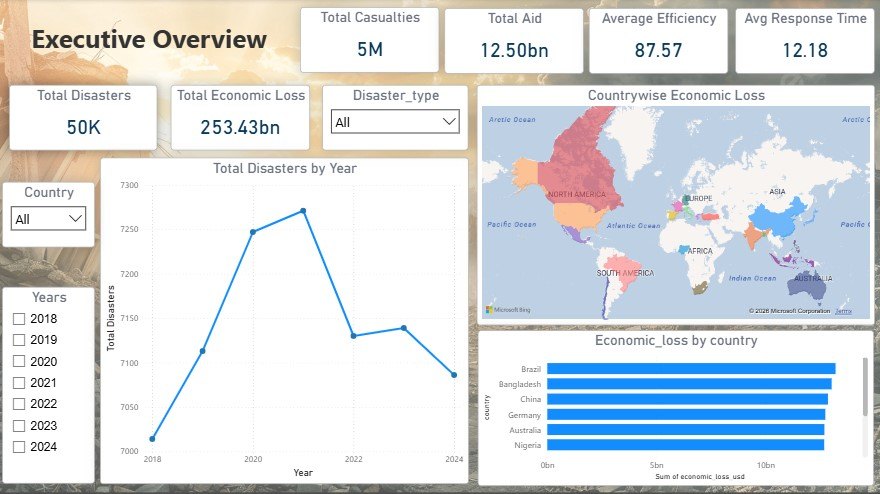

Layout of this report page (visuals, bound fields, positions):
{"tool":"powerbi","page":{"name":"Executive Overview","canvas":[1280,720],"ordinal":0},"visuals":[{"type":"card","title":"Total Disasters","fields":{"Values":["Disasters_Table.Total Disasters"]},"box":[16.1,124.4,215.2,95.2],"z":0},{"type":"card","title":"Total Economic Loss","fields":{"Values":["Disasters_Table.Total Economic Loss"]},"box":[250.3,124.4,202,95.1],"z":1000},{"type":"card","title":"Total Casualties","fields":{"Values":["Disasters_Table.Total Casualties"]},"box":[438.3,12.2,202.1,95],"z":2000},{"type":"card","title":"Total Aid","fields":{"Values":["Disasters_Table.Total Aid"]},"box":[647.3,12.6,202.3,95],"z":3000},{"type":"card","title":"Avg Response Time","fields":{"Values":["Disasters_Table.Avg Response Time"]},"box":[1068.6,12.6,202,95],"z":4000},{"type":"card","title":"Average Efficiency","fields":{"Values":["Disasters_Table.Avg Efficiency"]},"box":[856.6,12.6,202,95],"z":5000},{"type":"slicer","title":"Years","fields":{"Values":["Calender_Table.Year"]},"box":[5.9,417.2,134.7,285.5],"z":6000},{"type":"lineChart","fields":{"Category":["Calender_Table.Year"],"Y":["Disasters_Table.Total Disasters"]},"box":[147.9,229.8,534.3,472.8],"z":7000},{"type":"filledMap","title":"Countrywise Economic Loss","fields":{"Category":["Disasters_Table.country"],"Series":["Disasters_Table.economic_loss_usd"]},"box":[693.9,124.2,577,348.2],"z":8000},{"type":"barChart","title":"Economic_loss by country","fields":{"Category":["Disasters_Table.country"],"Y":["Sum(Disasters_Table.economic_loss_usd)"]},"box":[695.4,480.2,573.8,225.4],"z":9000},{"type":"slicer","title":"Country","fields":{"Values":["Disasters_Table.country"]},"box":[5.9,265,134.7,95.1],"z":10000},{"type":"slicer","title":"Disaster_type","fields":{"Values":["Disasters_Table.disaster_type"]},"box":[469.9,124.4,212.3,95.2],"z":11000},{"type":"textbox","box":[10.2,24.9,417.2,82],"z":12000}]}

Visuals, with their boxes in screenshot pixels (x1, y1, x2, y2), scaled from the page's 1280x720 canvas onto the 880x494 screenshot:
"Total Disasters" card: 11/85/159/151
"Total Economic Loss" card: 172/85/311/151
"Total Casualties" card: 301/8/440/74
"Total Aid" card: 445/9/584/74
"Avg Response Time" card: 735/9/874/74
"Average Efficiency" card: 589/9/728/74
"Years" slicer: 4/286/97/482
lineChart - Calender_Table.Year x Disasters_Table.Total Disasters: 102/158/469/482
"Countrywise Economic Loss" filledMap: 477/85/874/324
"Economic_loss by country" barChart: 478/329/873/484
"Country" slicer: 4/182/97/247
"Disaster_type" slicer: 323/85/469/151
textbox: 7/17/294/73
